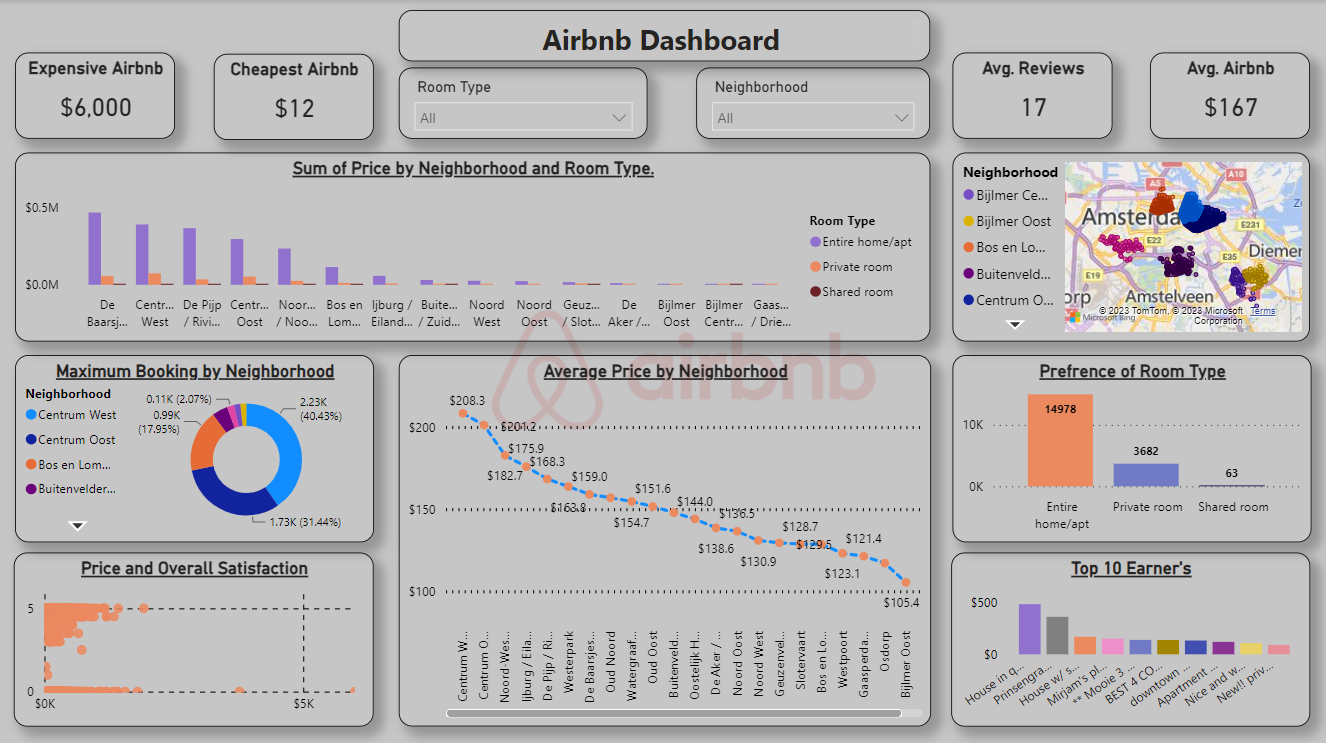

This screenshot's page, from the dashboard's own definition file:
{"tool":"powerbi","page":{"name":"Airbnb Dashboard.","canvas":[1280,720],"ordinal":0},"visuals":[{"type":"map","fields":{"Y":["airbnb_updated.latitude"],"X":["airbnb_updated.longitude"],"Series":["airbnb_updated.neighborhood"]},"box":[919,147.1,344.9,182.1],"z":0},{"type":"columnChart","title":"Top 10 Earner''s","fields":{"Category":["airbnb_updated.name"],"Y":["Sum(airbnb_updated.price)"]},"box":[917.8,533.1,346.1,167.6],"z":1000},{"type":"donutChart","title":"Maximum Booking by Neighborhood","fields":{"Category":["airbnb_updated.neighborhood"],"Y":["CountNonNull(airbnb_updated.neighborhood)"]},"box":[14.5,342.5,346.1,180.9],"z":2000},{"type":"clusteredColumnChart","title":"Sum of Price by Neighborhood and Room Type.","fields":{"Category":["airbnb_updated.neighborhood"],"Y":["Sum(airbnb_updated.price)"],"Series":["airbnb_updated.room_type"]},"box":[14.5,147.1,882.8,182.1],"z":3000},{"type":"columnChart","title":"Prefrence of Room Type","fields":{"Category":["airbnb_updated.room_type"],"Y":["CountNonNull(airbnb_updated.room_type)"]},"box":[919,342.5,346.1,180.9],"z":4000},{"type":"textbox","box":[384.7,9.6,512.6,49.4],"z":5000},{"type":"card","title":"Expensive Airbnb","fields":{"Values":["Max(airbnb_updated.price)"]},"box":[14.5,50.7,154.4,83.2],"z":6000},{"type":"card","title":"Cheapest Airbnb","fields":{"Values":["Min(airbnb_updated.price)"]},"box":[206.2,51.9,154.4,83.2],"z":7000},{"type":"card","title":"Avg.  Reviews","fields":{"Values":["Avg(airbnb_updated.reviews)"]},"box":[919,50.7,154.4,83.2],"z":8000},{"type":"card","title":"Avg. Airbnb","fields":{"Values":["Avg(airbnb_updated.price)"]},"box":[1109.5,50.7,154.4,83.2],"z":9000},{"type":"lineChart","title":"Average Price by Neighborhood","fields":{"Category":["airbnb_updated.neighborhood"],"Y":["Avg(airbnb_updated.price)"]},"box":[384.7,342.5,513.8,358.2],"z":10000},{"type":"scatterChart","title":"Price and Overall Satisfaction","fields":{"X":["airbnb_updated.price"],"Y":["airbnb_updated.overall_satisfaction"]},"box":[13.3,533.1,347.3,167.6],"z":11000},{"type":"slicer","fields":{"Values":["airbnb_updated.room_type"]},"box":[384.7,65.1,240,68.7],"z":12000},{"type":"slicer","fields":{"Values":["airbnb_updated.neighborhood"]},"box":[671.8,65.1,225.5,68.7],"z":13000}]}

Visuals, with their boxes in screenshot pixels (x1, y1, x2, y2), scaled from the page's 1280x720 canvas onto the 1326x743 screenshot:
map - airbnb_updated.latitude x airbnb_updated.longitude: pyautogui.locateOnScreen(952, 152, 1309, 340)
"Top 10 Earner''s" columnChart: pyautogui.locateOnScreen(951, 550, 1309, 723)
"Maximum Booking by Neighborhood" donutChart: pyautogui.locateOnScreen(15, 353, 374, 540)
"Sum of Price by Neighborhood and Room Type." clusteredColumnChart: pyautogui.locateOnScreen(15, 152, 930, 340)
"Prefrence of Room Type" columnChart: pyautogui.locateOnScreen(952, 353, 1311, 540)
textbox: pyautogui.locateOnScreen(399, 10, 930, 61)
"Expensive Airbnb" card: pyautogui.locateOnScreen(15, 52, 175, 138)
"Cheapest Airbnb" card: pyautogui.locateOnScreen(214, 54, 374, 139)
"Avg.  Reviews" card: pyautogui.locateOnScreen(952, 52, 1112, 138)
"Avg. Airbnb" card: pyautogui.locateOnScreen(1149, 52, 1309, 138)
"Average Price by Neighborhood" lineChart: pyautogui.locateOnScreen(399, 353, 931, 723)
"Price and Overall Satisfaction" scatterChart: pyautogui.locateOnScreen(14, 550, 374, 723)
slicer - airbnb_updated.room_type: pyautogui.locateOnScreen(399, 67, 647, 138)
slicer - airbnb_updated.neighborhood: pyautogui.locateOnScreen(696, 67, 930, 138)
